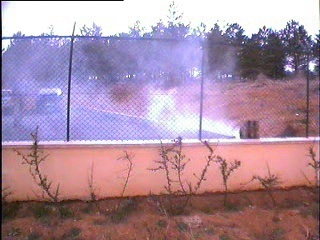smoke: (77, 23, 243, 136)
